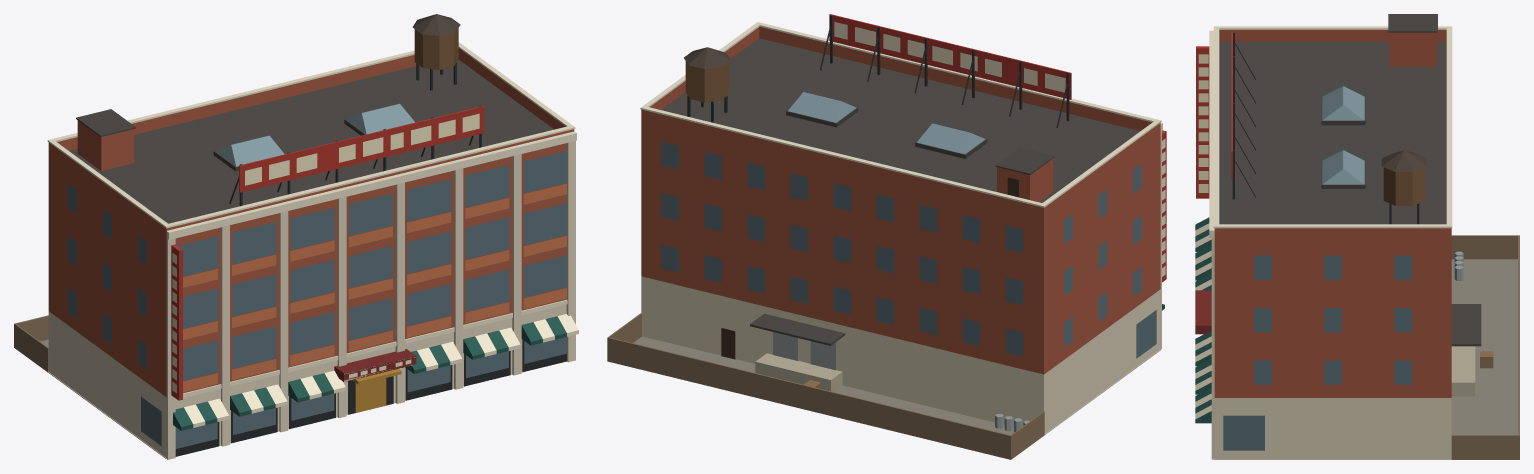
File: store_wa.glb
The picture shows the model from 3 angles, left to right: view 1: azimuth 30°, elevation 25°; view 2: azimuth 150°, elevation 25°; view 3: azimuth 270°, elevation 25°; orthographic projection.
Visible parts, largest first — view 1: store_wa; view 2: store_wa; view 3: store_wa.
Part boxes in pixels (x1,y1,x2,y2): store_wa: [14, 14, 578, 459]; store_wa: [607, 14, 1166, 459]; store_wa: [1195, 14, 1519, 459].
Bounding box in the file's own units: 30 × 20.11 × 20.54.
